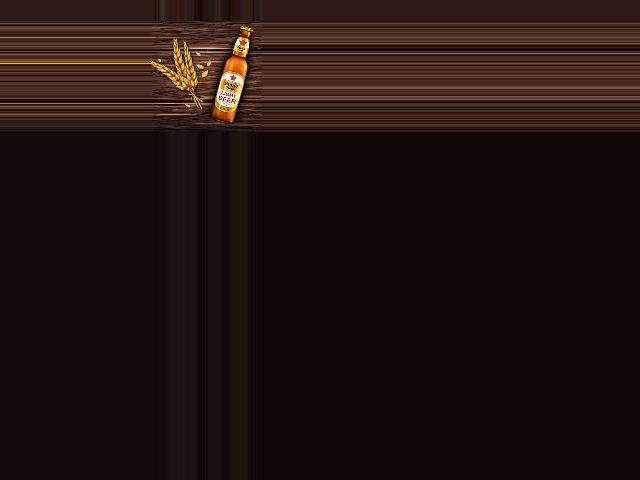beer: (211, 26, 253, 123)
